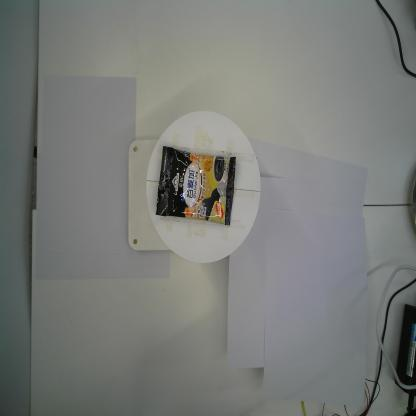Instant Drink: (154, 146, 236, 228)
